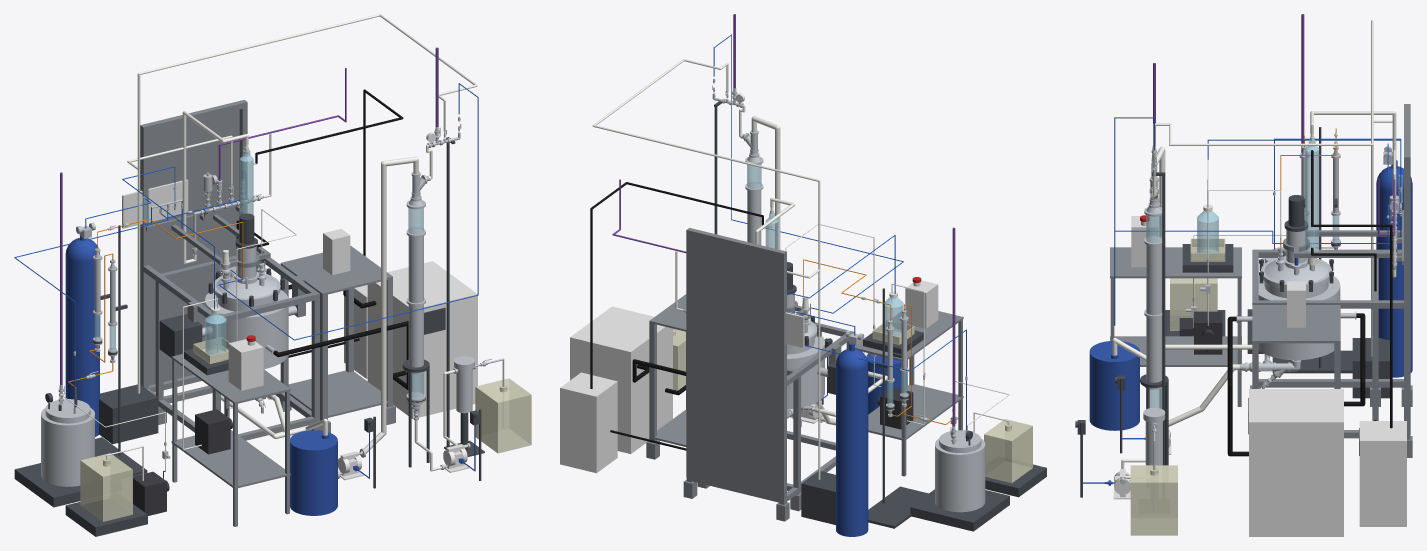
Rendered from tefkot-770-ustanovka.glb.
3 views of the same model, side by side, from view 1: azimuth 30°, elevation 25°; view 2: azimuth 150°, elevation 25°; view 3: azimuth 270°, elevation 25° (orthographic). The views are drawn at different scales.
Parts seen in each view (by area): view 1: Рама-стойка реактора Wiggens, Чиллер рубашки реактора (TC-1), Тележка блока управления, Тележка дозирования: MeSiCl₃ на весах, PDMS-OH рядом, насос , Баллон аргона 40 л (AR-1), Генератор метиламина — бак Atmaler БК-40 (G-1), Бочка растворителя 30 л (петролейный эфир), Канистра продукта 20 л, Канистра 38% водного метиламина (V-1), Насос вакуумный мембранный химический (VP-1), Рубашка реактора (теплоноситель), Нутч F-1 — сборка K119 (4″): переходы K119 → 64 → 50,5 → K25 (+27 smaller); view 2: Рама-стойка реактора Wiggens, Чиллер рубашки реактора (TC-1), Баллон аргона 40 л (AR-1), Чиллер конденсатора E-1 (TC-2), Тележка дозирования: MeSiCl₃ на весах, PDMS-OH рядом, насос , Генератор метиламина — бак Atmaler БК-40 (G-1), Тележка блока управления, Канистра 38% водного метиламина (V-1), Штатив колонн осушки, Весы 60 кг под генератором (W-2), Насос вакуумный мембранный химический (VP-1), Рубашка реактора (теплоноситель) (+14 smaller); view 3: Чиллер рубашки реактора (TC-1), Рама-стойка реактора Wiggens, Чиллер конденсатора E-1 (TC-2), Тележка дозирования: MeSiCl₃ на весах, PDMS-OH рядом, насос , Баллон аргона 40 л (AR-1), Бочка растворителя 30 л (петролейный эфир), Тележка блока управления, Канистра продукта 20 л, Нутч F-1 — сборка K119 (4″): переходы K119 → 64 → 50,5 → K25, Рубашка реактора (теплоноситель), Канистра 38% водного метиламина (V-1), Конденсатор змеевиковый стеклянный, комплект Wiggens (E-1) (+32 smaller).
Boxes of the visible parts, left/top/right/bottom form: Рама-стойка реактора Wiggens: left=140, top=100, right=321, bottom=440; Чиллер рубашки реактора (TC-1): left=367, top=261, right=477, bottom=418; Тележка блока управления: left=279, top=246, right=395, bottom=432; Тележка дозирования: MeSiCl₃ на весах, PDMS-OH рядом, насос : left=171, top=354, right=290, bottom=526; Баллон аргона 40 л (AR-1): left=65, top=236, right=99, bottom=436; Генератор метиламина — бак Atmaler БК-40 (G-1): left=41, top=399, right=94, bottom=486; Бочка растворителя 30 л (петролейный эфир): left=290, top=430, right=337, bottom=515; Канистра продукта 20 л: left=475, top=378, right=531, bottom=453; Канистра 38% водного метиламина (V-1): left=80, top=453, right=132, bottom=521; Насос вакуумный мембранный химический (VP-1): left=99, top=384, right=158, bottom=444; Рубашка реактора (теплоноситель): left=205, top=290, right=288, bottom=369; Нутч F-1 — сборка K119 (4″): переходы K119 → 64 → 50,5 → K25: left=406, top=227, right=425, bottom=420; Рама-стойка реактора Wiggens: left=683, top=228, right=854, bottom=521; Чиллер рубашки реактора (TC-1): left=570, top=306, right=672, bottom=453; Баллон аргона 40 л (AR-1): left=836, top=343, right=868, bottom=536; Чиллер конденсатора E-1 (TC-2): left=560, top=372, right=617, bottom=473; Тележка дозирования: MeSiCl₃ на весах, PDMS-OH рядом, насос : left=855, top=309, right=963, bottom=476; Генератор метиламина — бак Atmaler БК-40 (G-1): left=935, top=430, right=985, bottom=512; Тележка блока управления: left=646, top=294, right=686, bottom=459; Канистра 38% водного метиламина (V-1): left=984, top=419, right=1032, bottom=483; Штатив колонн осушки: left=868, top=288, right=928, bottom=528; Весы 60 кг под генератором (W-2): left=910, top=489, right=1009, bottom=531; Насос вакуумный мембранный химический (VP-1): left=801, top=471, right=835, bottom=524; Рубашка реактора (теплоноситель): left=787, top=335, right=824, bottom=409; Чиллер рубашки реактора (TC-1): left=1249, top=389, right=1343, bottom=536; Рама-стойка реактора Wiggens: left=1250, top=104, right=1412, bottom=457; Чиллер конденсатора E-1 (TC-2): left=1359, top=421, right=1406, bottom=526; Тележка дозирования: MeSiCl₃ на весах, PDMS-OH рядом, насос : left=1110, top=247, right=1241, bottom=406; Баллон аргона 40 л (AR-1): left=1376, top=160, right=1412, bottom=377; Бочка растворителя 30 л (петролейный эфир): left=1089, top=341, right=1139, bottom=430; Тележка блока управления: left=1252, top=305, right=1340, bottom=388; Канистра продукта 20 л: left=1130, top=465, right=1177, bottom=535; Нутч F-1 — сборка K119 (4″): переходы K119 → 64 → 50,5 → K25: left=1144, top=236, right=1162, bottom=389; Рубашка реактора (теплоноситель): left=1258, top=275, right=1340, bottom=360; Канистра 38% водного метиламина (V-1): left=1170, top=278, right=1217, bottom=330; Конденсатор змеевиковый стеклянный, комплект Wiggens (E-1): left=1305, top=139, right=1319, bottom=251.
Bounding box in the file's own units: 3260 × 3005 × 2135.
